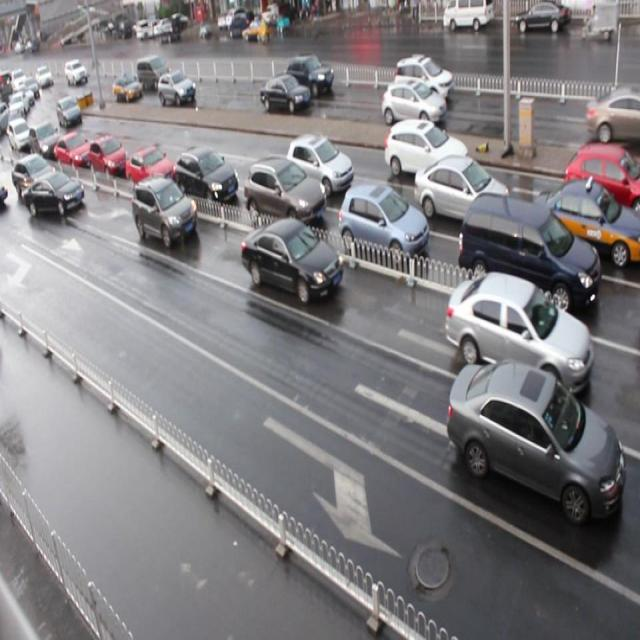car: (445, 356, 624, 522), (445, 269, 595, 398), (532, 181, 640, 273), (240, 214, 343, 306), (338, 183, 429, 271), (415, 153, 509, 235), (244, 155, 326, 230), (385, 118, 469, 188), (565, 142, 640, 220), (131, 175, 196, 249), (284, 132, 355, 196), (174, 147, 239, 207), (21, 170, 86, 220), (381, 80, 446, 130), (586, 90, 640, 147), (395, 56, 452, 105), (125, 143, 178, 194), (12, 153, 58, 203), (89, 134, 131, 180), (285, 56, 333, 96), (260, 76, 309, 115), (53, 130, 90, 176), (157, 70, 195, 110), (30, 120, 62, 162), (112, 73, 144, 102)
truck: (459, 190, 597, 320), (136, 57, 172, 92)
